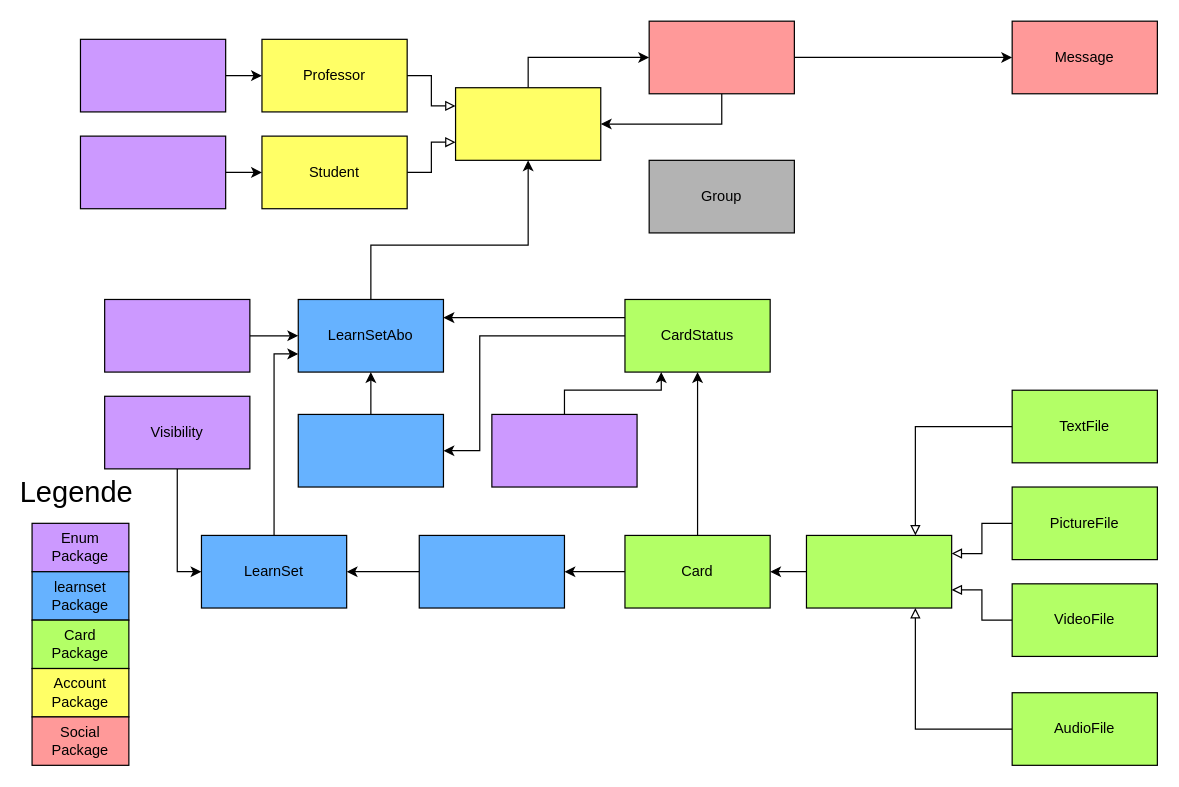
Image size: 1179x787. Some labels were removed from this diagram. The shapes that lost their labels are listed below. From the top down, each one's centre as x and y in pixels, then its label:
the point at 152,75: AcademicGrade
the point at 721,57: Chat
the point at 527,123: Account
the point at 152,172: Faculty
the point at 176,335: State
the point at 370,450: LearningSession
the point at 564,450: CardknowledgeLevel
the point at 491,571: CardList
the point at 878,571: CardContent
